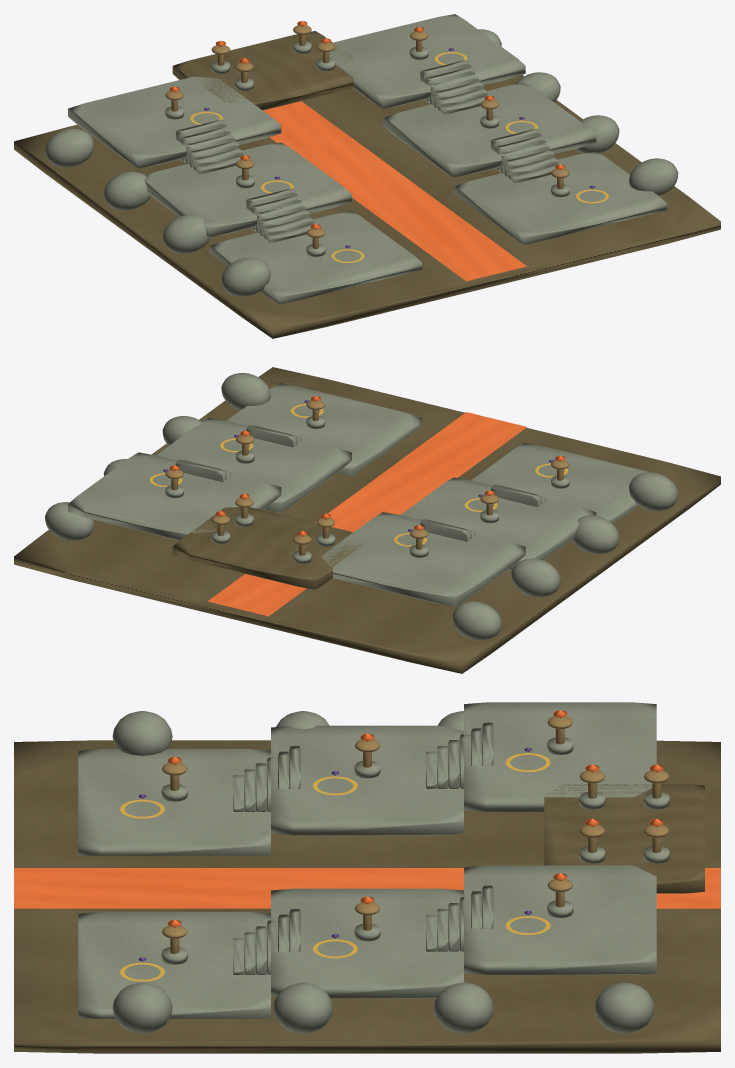
Rendered from ember_corrupted.glb.
3 views of the same model, one above another, from view 1: azimuth 30°, elevation 25°; view 2: azimuth 150°, elevation 25°; view 3: azimuth 270°, elevation 25° (orthographic). The views are drawn at different scales.
Visible parts, largest first — view 1: ember_corrupted_StaticBatch; view 2: ember_corrupted_StaticBatch; view 3: ember_corrupted_StaticBatch.
Boxes of the visible parts, x1,y1,x2,y2 form: ember_corrupted_StaticBatch: [14, 14, 720, 338]; ember_corrupted_StaticBatch: [14, 367, 720, 673]; ember_corrupted_StaticBatch: [14, 702, 720, 1053].
Size of the model in its own units: 22.18 by 3.88 by 22.
1 material, 1 textured.
